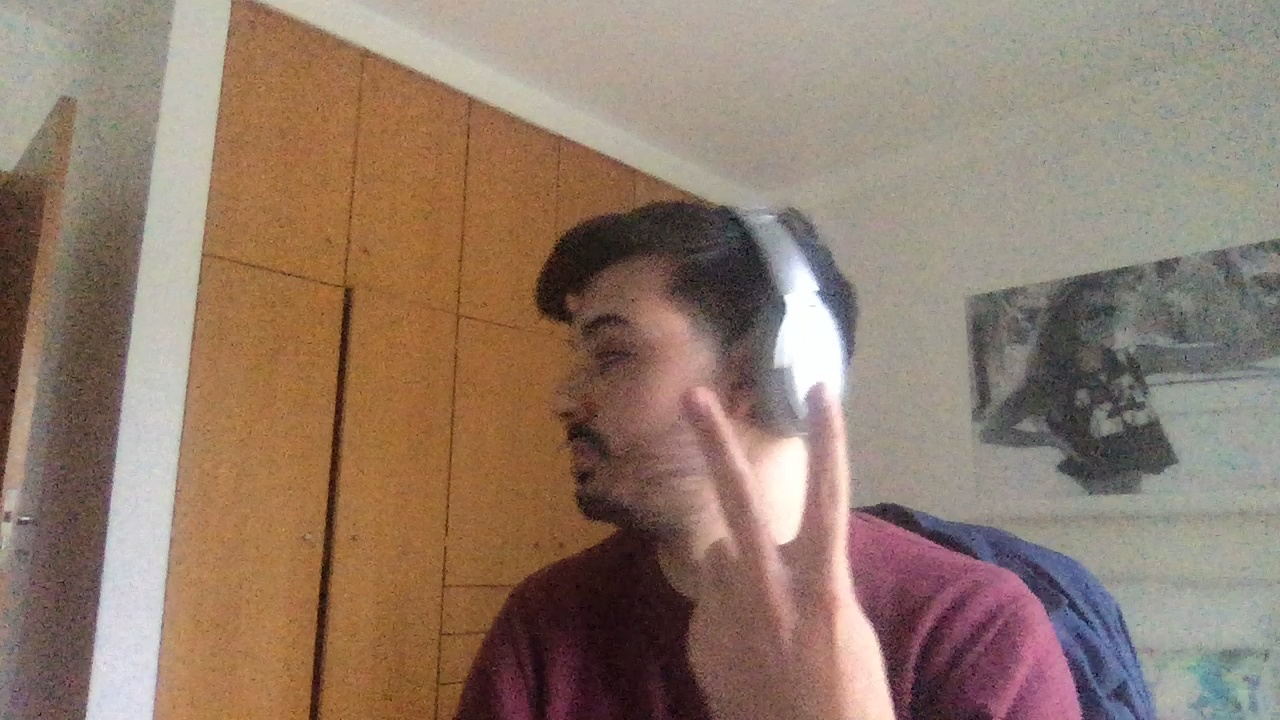Peace: (681, 381, 866, 687)
